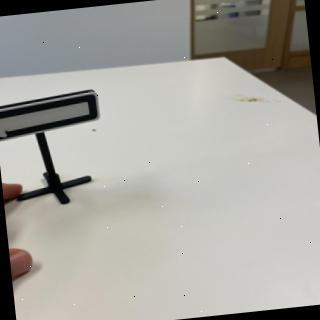sign_oneway_left: (1, 88, 102, 145)
